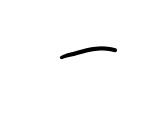minus: (60, 45, 117, 61)
